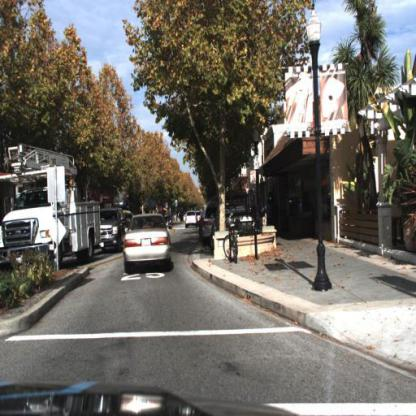car: (117, 208, 175, 278), (120, 211, 177, 275), (211, 200, 259, 256), (99, 204, 127, 255), (99, 205, 125, 254), (201, 200, 214, 250), (185, 209, 201, 235), (185, 209, 199, 234)
pedestrian: (265, 197, 274, 237), (272, 196, 281, 234)
truck: (1, 144, 104, 272)
